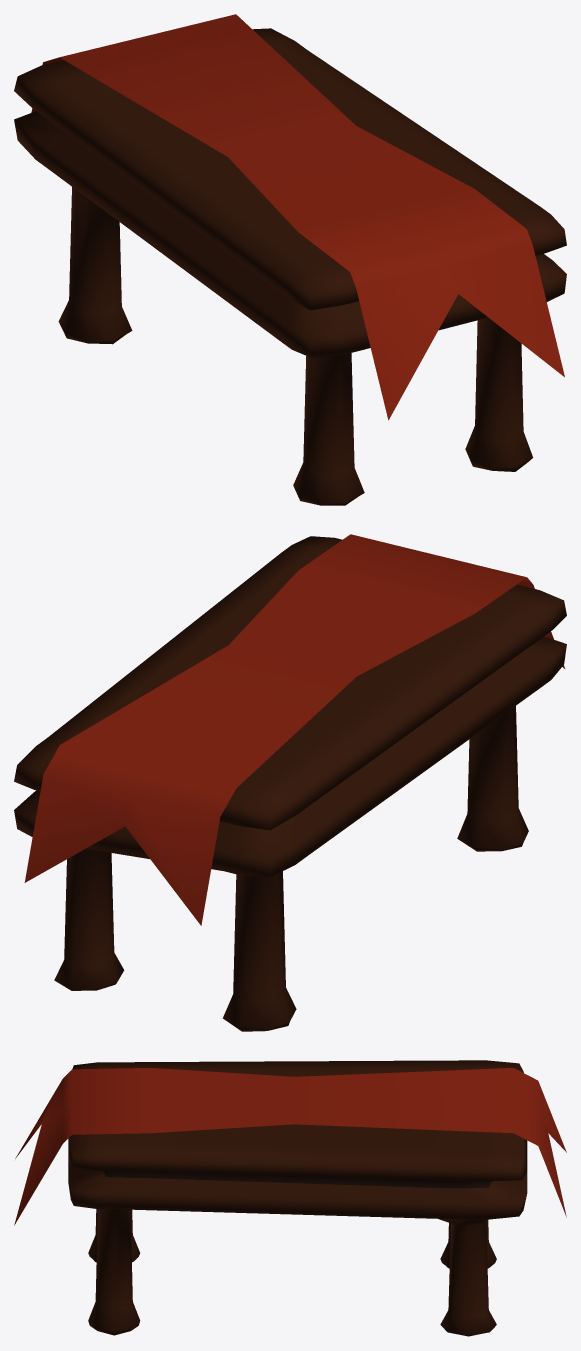
File: Table.fbx
The picture shows the model from 3 angles, top to bottom: view 1: azimuth 30°, elevation 25°; view 2: azimuth 150°, elevation 25°; view 3: azimuth 270°, elevation 25°; orthographic projection. The views are drawn at different scales.
Visible parts, largest first — view 1: Box001; view 2: Box001; view 3: Box001.
Part boxes in pixels (x1,y1,x2,y2): Box001: (14,14,566,505); Box001: (14,534,566,1031); Box001: (14,1060,566,1336).
Bounding box in the file's own units: 35.16 × 32.59 × 84.14.
